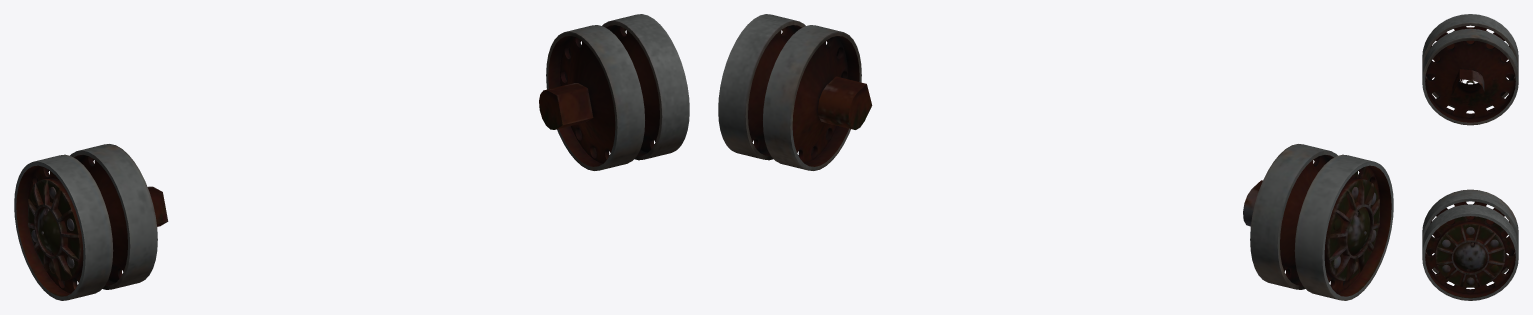
Rendered from medium_wheels_2.gltf.
The picture shows the model from 3 angles, left to right: view 1: azimuth 30°, elevation 25°; view 2: azimuth 150°, elevation 25°; view 3: azimuth 270°, elevation 25°; orthographic projection. The views are drawn at different scales.
Visible parts, largest first — view 1: wheels; view 2: wheels; view 3: wheels.
Boxes of the visible parts, x1,y1,x2,y2 form: wheels: (14,14,689,300); wheels: (718,14,1393,300); wheels: (1422,14,1518,300).
Size of the model in its own units: 0.5398 by 0.1078 by 0.1078.
Materials: 1 (1 with a texture image).
